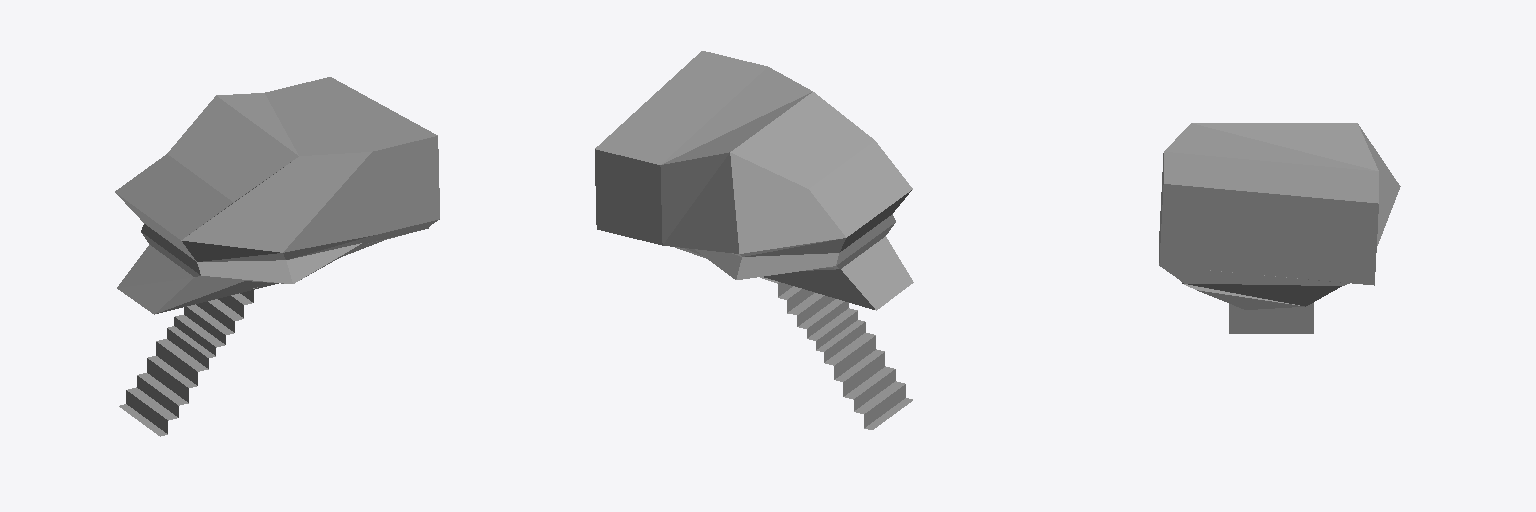
The model's file is dungeon1INTERIORENTRANCE.obj.
3 renders of one model, left to right at view 1: azimuth 30°, elevation 25°; view 2: azimuth 150°, elevation 25°; view 3: azimuth 270°, elevation 25°, orthographic.
Parts seen in each view (by area): view 1: Plane.004; view 2: Plane.004; view 3: Plane.004.
Boxes of the visible parts, box(x1,y1,x2,y2) form: Plane.004: box(115, 77, 439, 436); Plane.004: box(595, 51, 913, 429); Plane.004: box(1159, 123, 1400, 333).
Bounding box in the file's own units: 14.94 × 15.28 × 12.59.